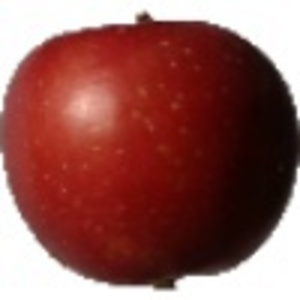maçã braeburn: (1, 12, 299, 287)
